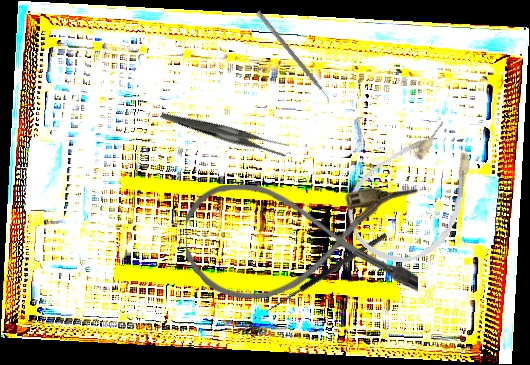Cannula: (328, 103, 503, 284), (186, 185, 418, 298)
Dressing Forceps: (159, 76, 293, 188)
Hook Surgical: (264, 231, 392, 321)
Spatula Surgical: (251, 10, 335, 106)
